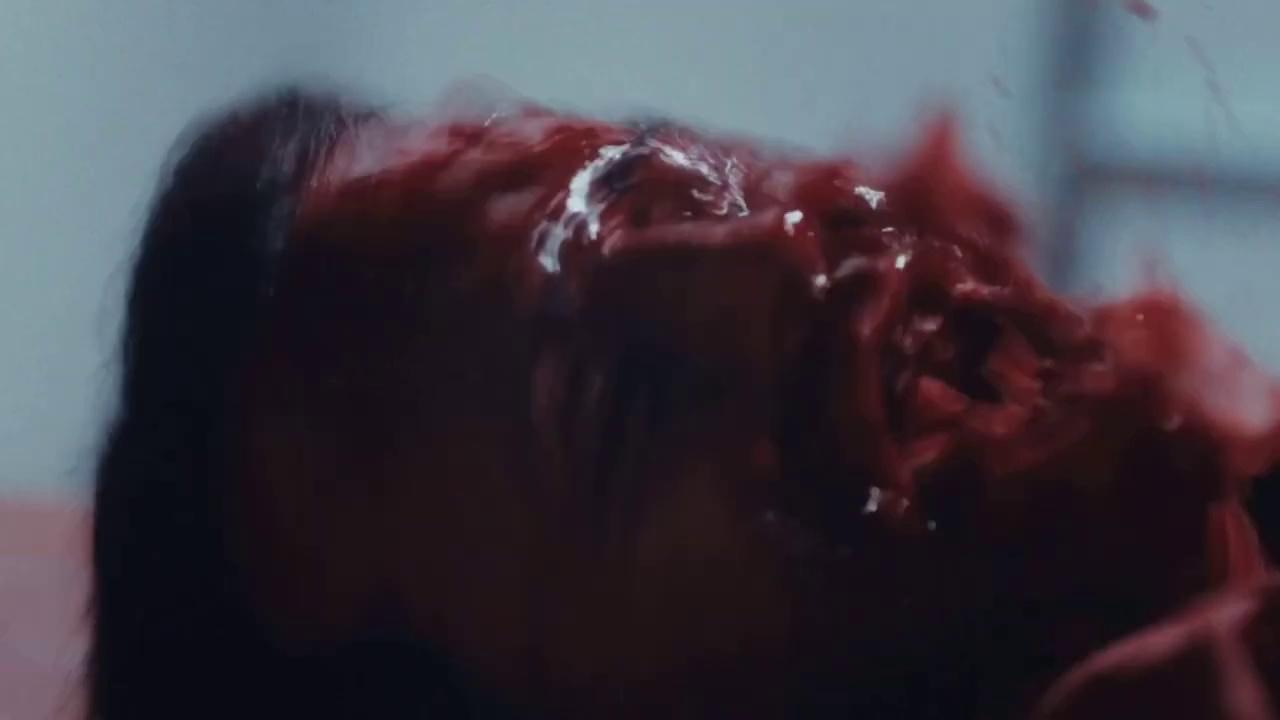Fire: (281, 112, 1280, 538)
